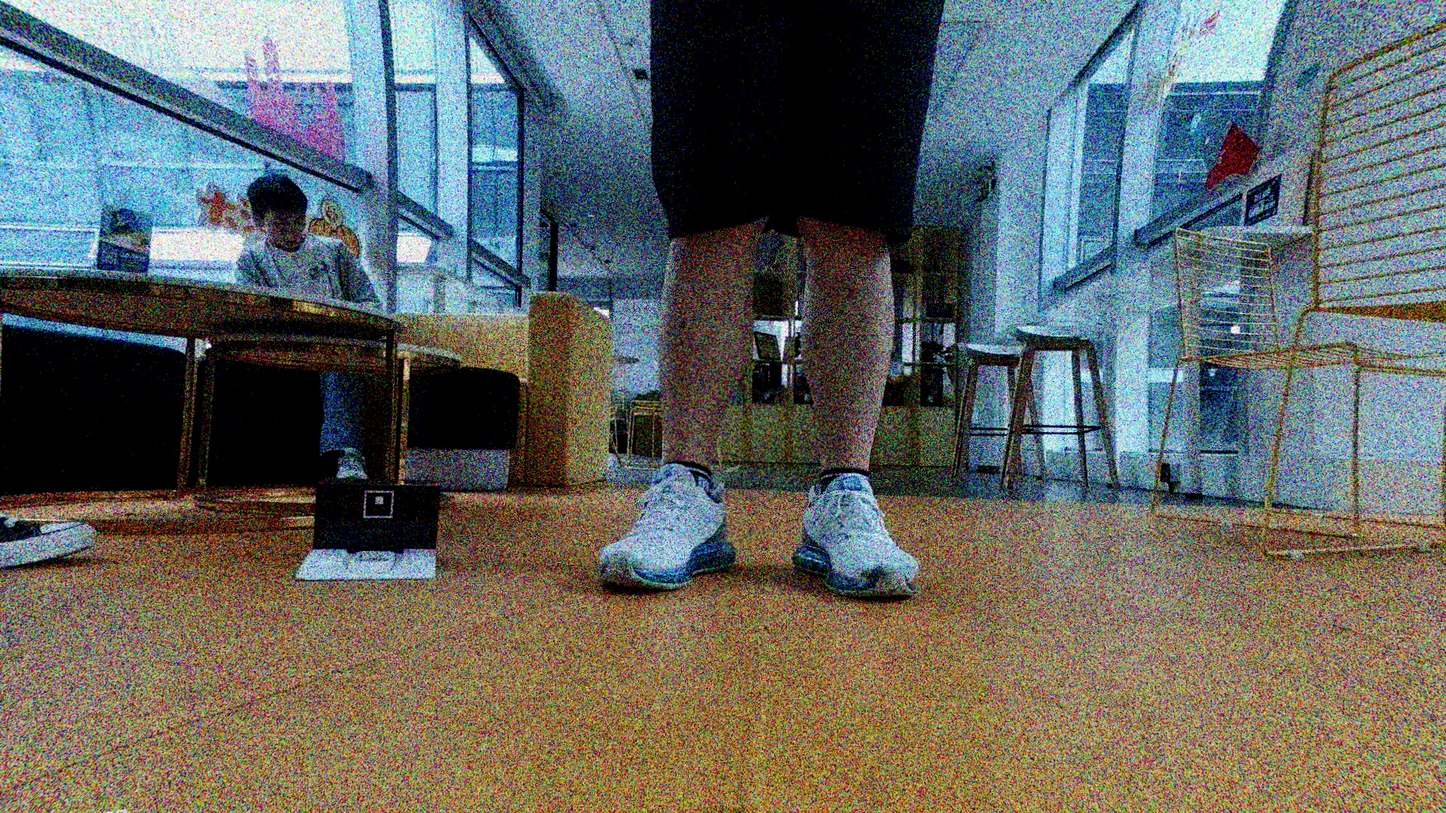face: (260, 196, 307, 248)
person: (587, 0, 956, 597), (218, 167, 419, 480)
